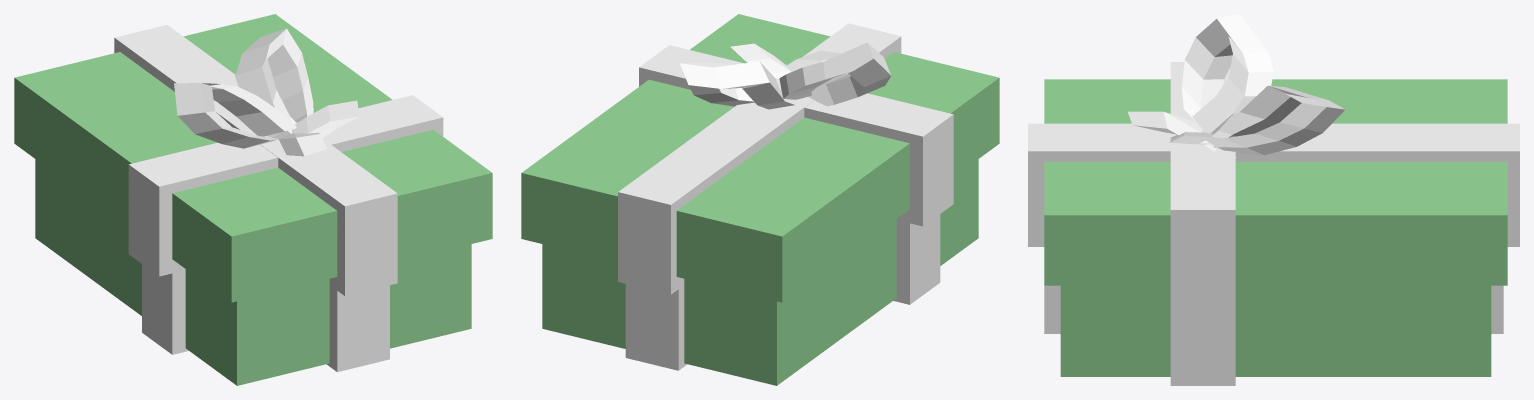
Rendered from Gift_wide_green.glb.
3 renders of one model, left to right at view 1: azimuth 30°, elevation 25°; view 2: azimuth 150°, elevation 25°; view 3: azimuth 270°, elevation 25°, orthographic. The views are drawn at different scales.
Parts seen in each view (by area): view 1: gift3; view 2: gift3; view 3: gift3.
Part boxes in pixels (x1=…): gift3: x1=14, y1=14, x2=492, y2=385; gift3: x1=521, y1=14, x2=999, y2=385; gift3: x1=1028, y1=14, x2=1519, y2=385.
Bounding box in the file's own units: 0.8144 × 0.6672 × 1.14.
